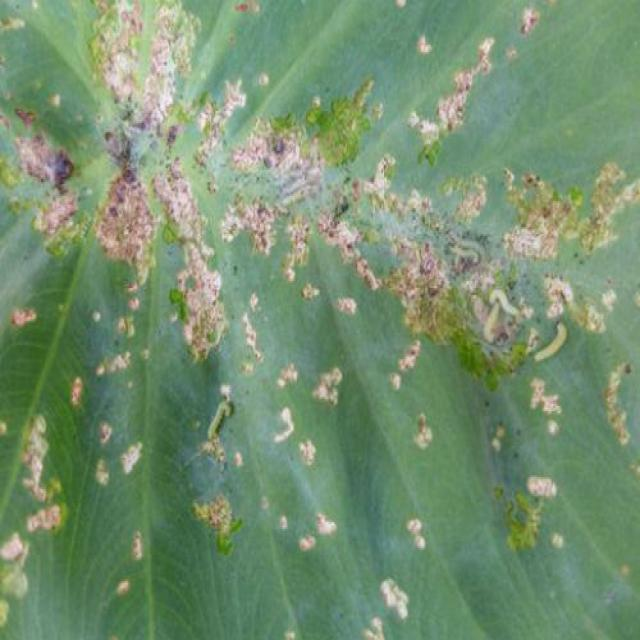BeetArmyWorm-Larva-: (531, 316, 572, 368), (204, 397, 235, 448), (485, 284, 519, 318), (480, 300, 502, 350), (444, 240, 480, 265)
